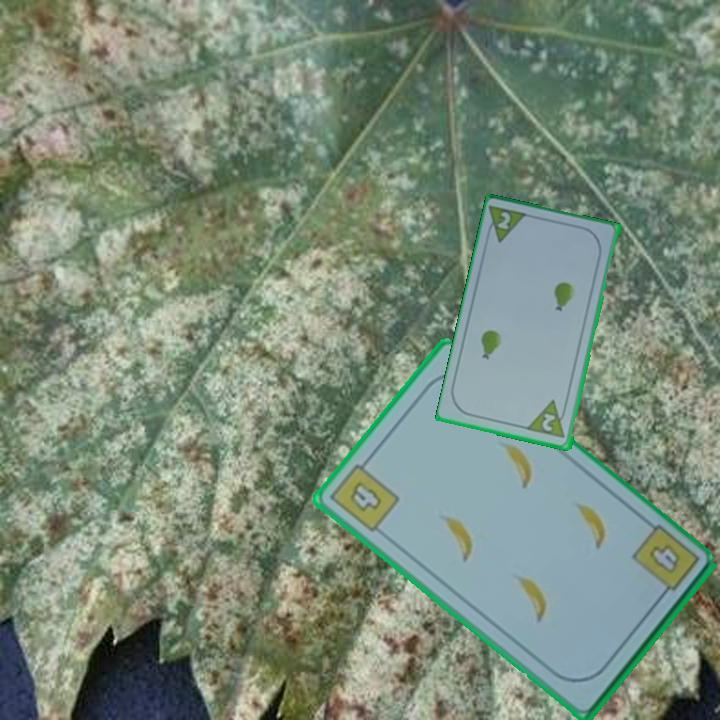2p: (525, 397, 571, 441), (494, 208, 514, 233)
4b: (326, 454, 403, 536), (628, 521, 703, 604)
